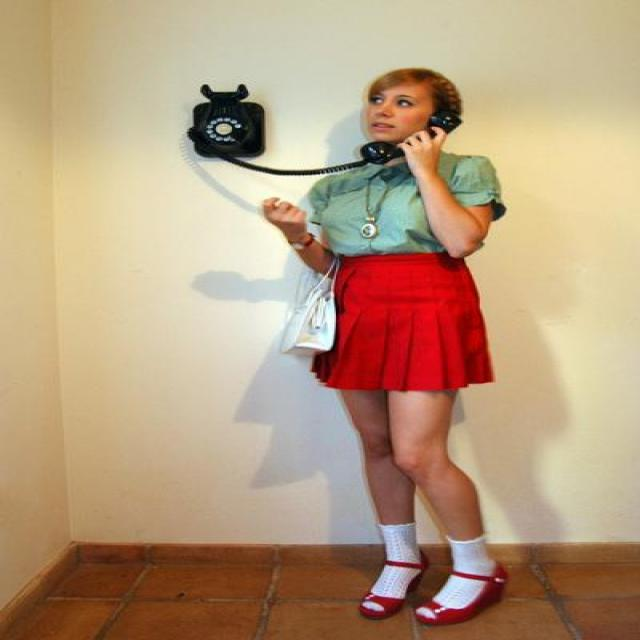bag: (274, 269, 334, 350)
shirt: (288, 145, 506, 255)
shoe: (364, 576, 506, 626)
skirt: (310, 248, 492, 392)
